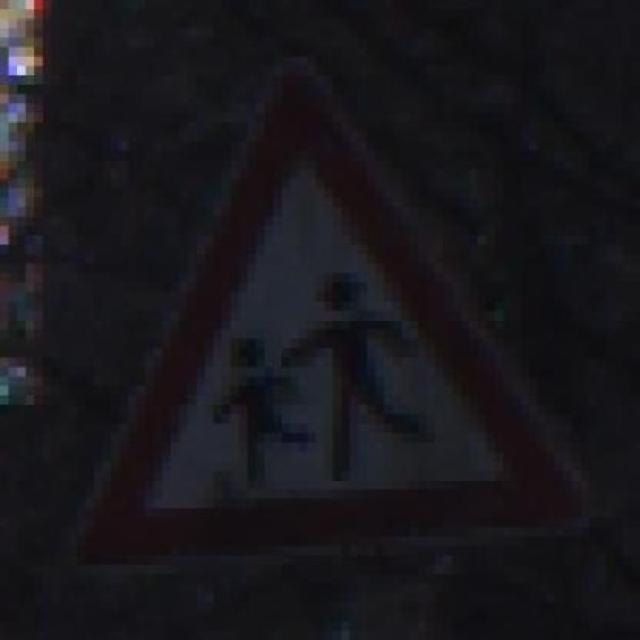Beware of children: (56, 66, 595, 574)
